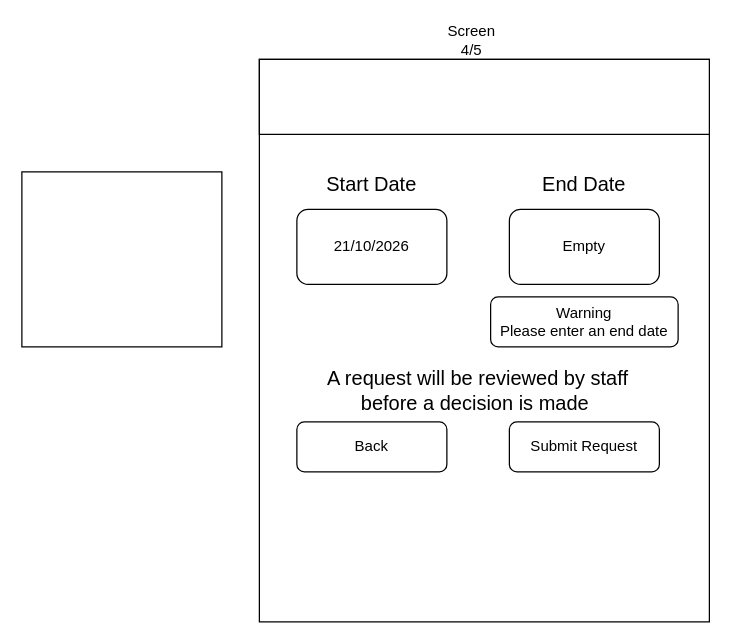
This 731x644 diagram has some shape labels left out. Here are the shapes that lost their labels. From the top down, the centre of each, then its label:
[483,96]: Request Equipment Selected equipment: laptop
[121,259]: Candidate rule: must both dates be entered before submission?
